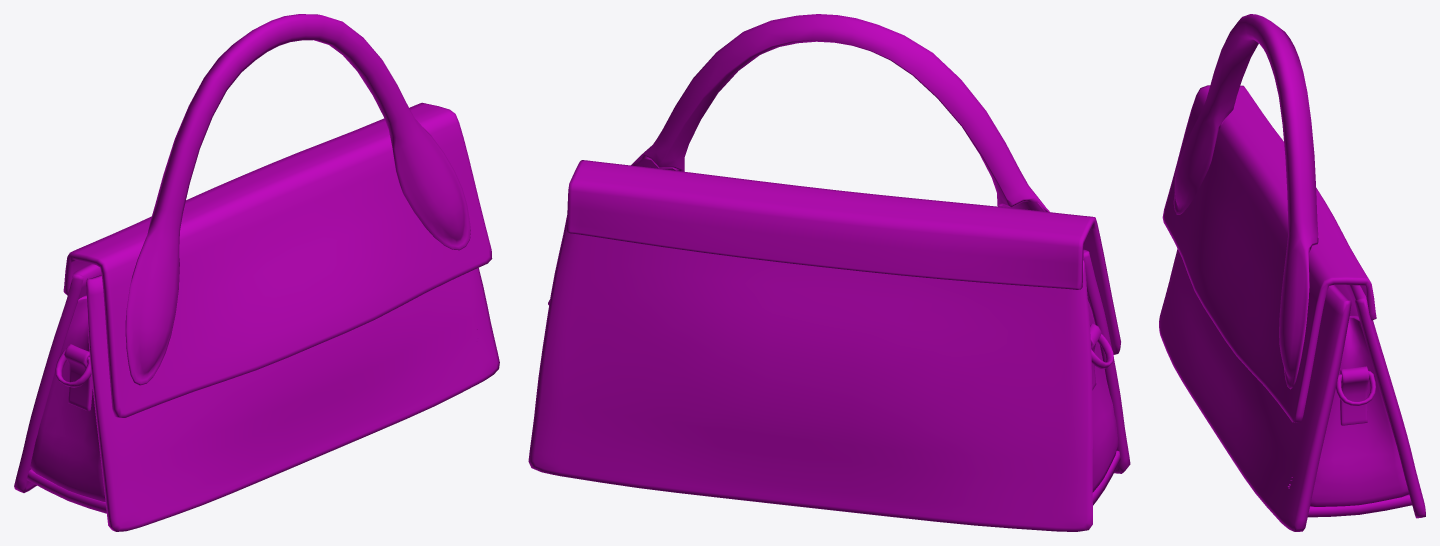
The model's file is bag.glb.
The picture shows the model from 3 angles, left to right: view 1: azimuth 30°, elevation 25°; view 2: azimuth 150°, elevation 25°; view 3: azimuth 270°, elevation 25°; orthographic projection. The views are drawn at different scales.
Parts seen in each view (by area): view 1: Bag_Mesh_; view 2: Bag_Mesh_; view 3: Bag_Mesh_.
Boxes of the visible parts, left/top/right/bottom form: Bag_Mesh_: left=14, top=14, right=499, bottom=531; Bag_Mesh_: left=528, top=14, right=1130, bottom=531; Bag_Mesh_: left=1159, top=14, right=1425, bottom=531.
Bounding box in the file's own units: 0.1949 × 0.1591 × 0.0965.
1 material, 1 textured.
